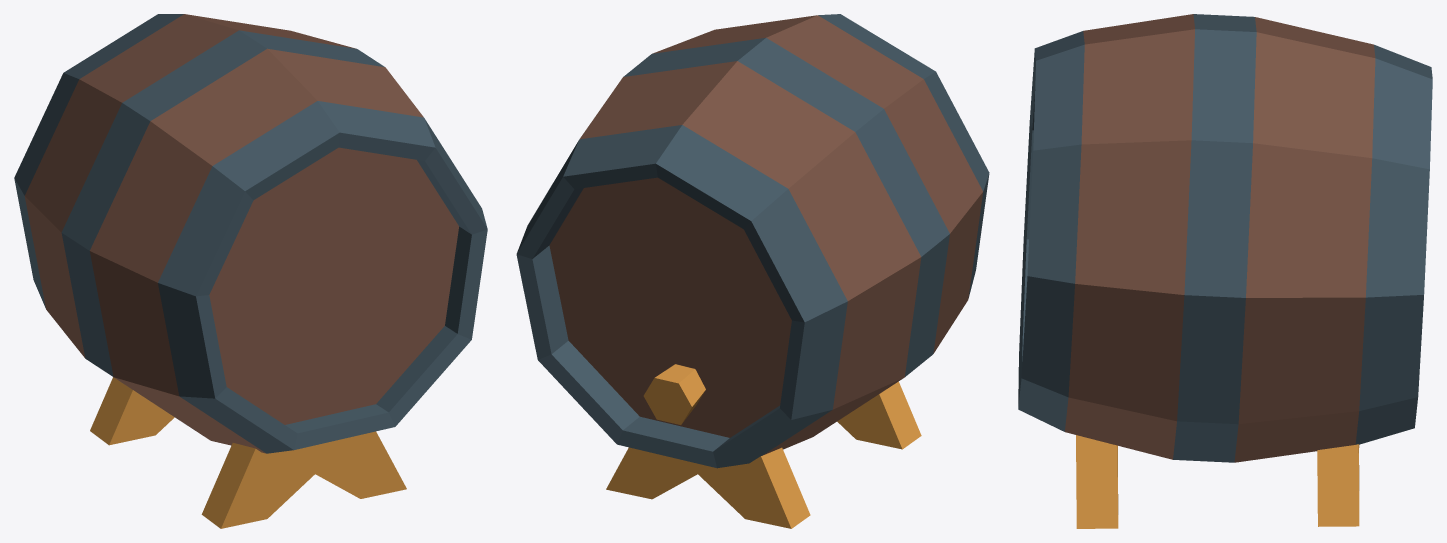
File: Keg.glb
The picture shows the model from 3 angles, left to right: view 1: azimuth 30°, elevation 25°; view 2: azimuth 150°, elevation 25°; view 3: azimuth 270°, elevation 25°; orthographic projection. The views are drawn at different scales.
Parts seen in each view (by area): view 1: Small keg; view 2: Small keg; view 3: Small keg.
Part boxes in pixels (x1,y1,x2,y2): Small keg: (14, 14, 487, 528); Small keg: (516, 14, 989, 528); Small keg: (1018, 14, 1432, 528).
Size of the model in its own units: 0.5651 by 0.6331 by 0.523.
